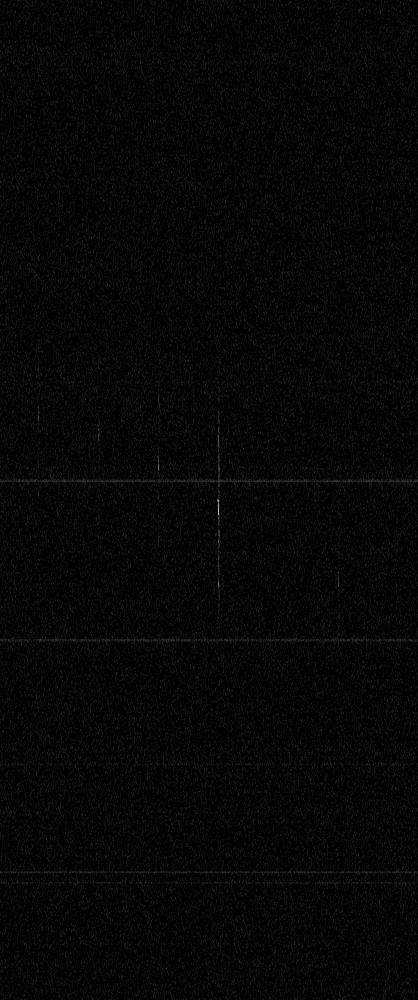signal: (0, 0, 417, 999)
